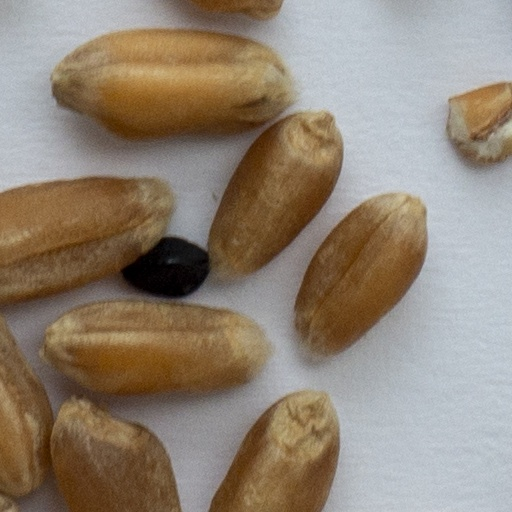Wheat-grain-damaged-poly: (435, 79, 511, 167)
